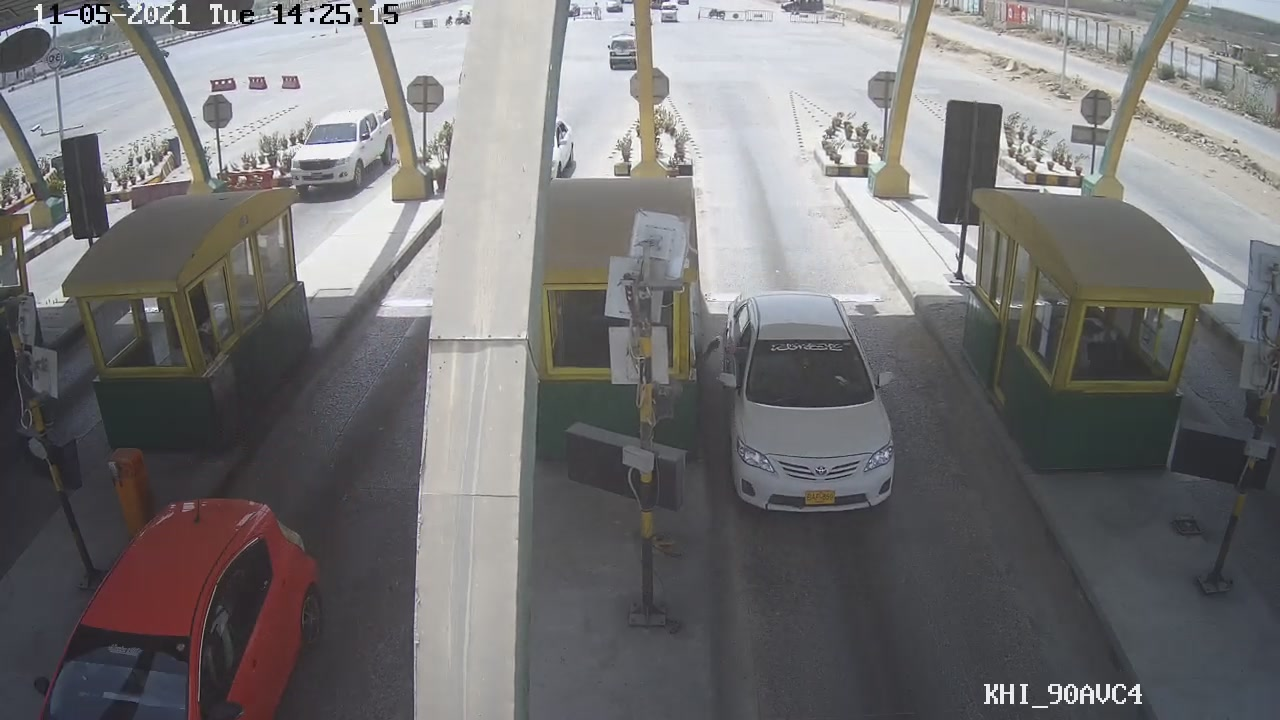F1: (718, 292, 904, 526)
